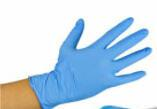gloves: (30, 16, 153, 109)
